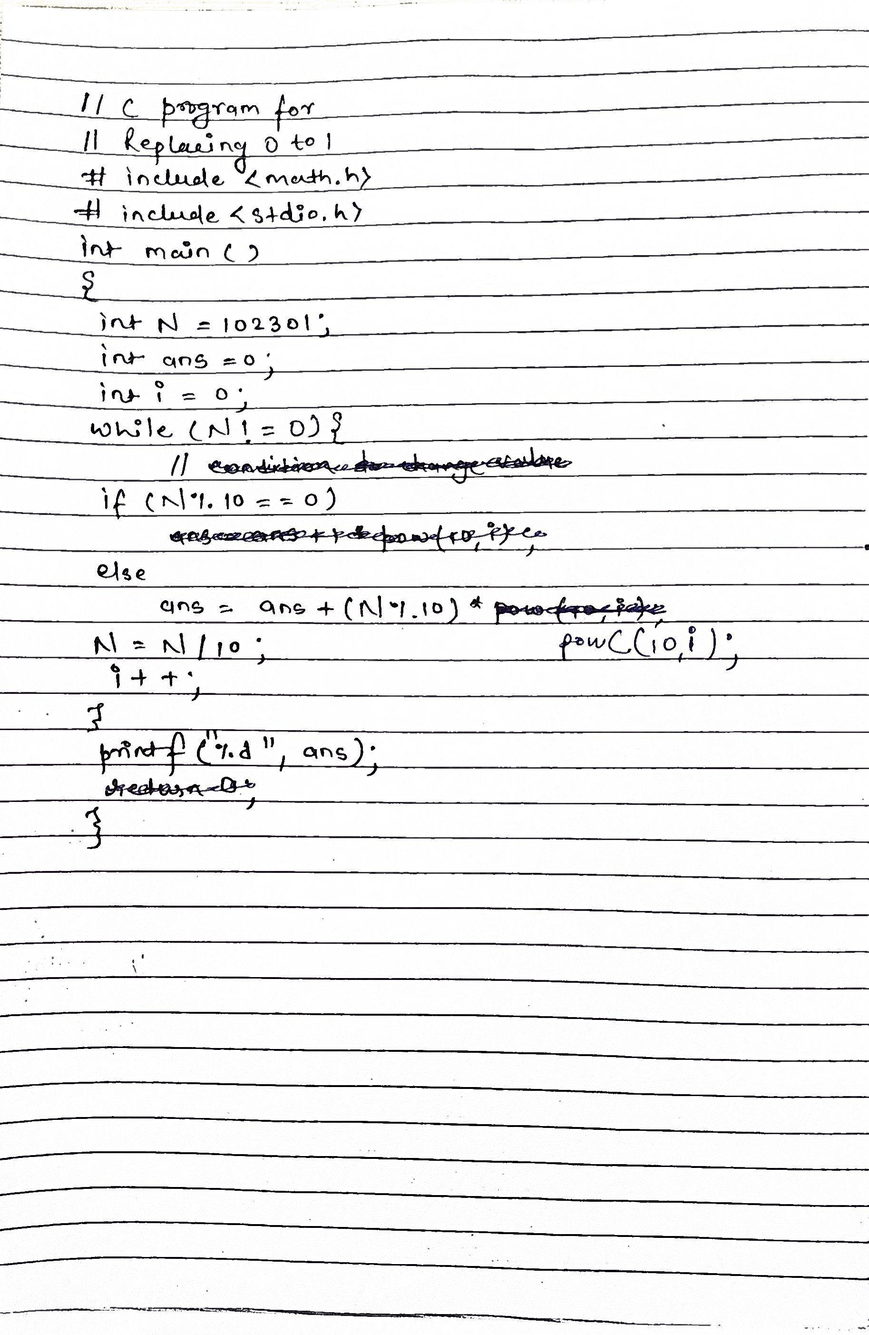cuttings: (205, 444, 574, 485), (167, 520, 547, 555), (493, 595, 668, 626), (103, 775, 255, 798)
